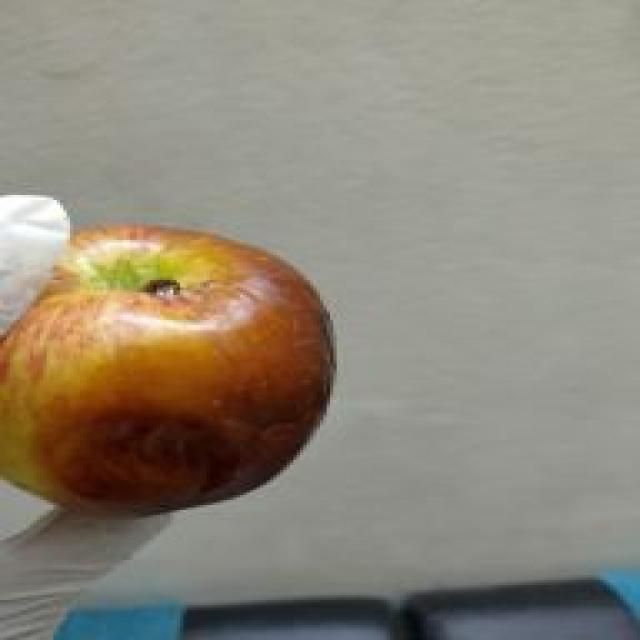Rotten_Apple: (2, 210, 349, 528)
